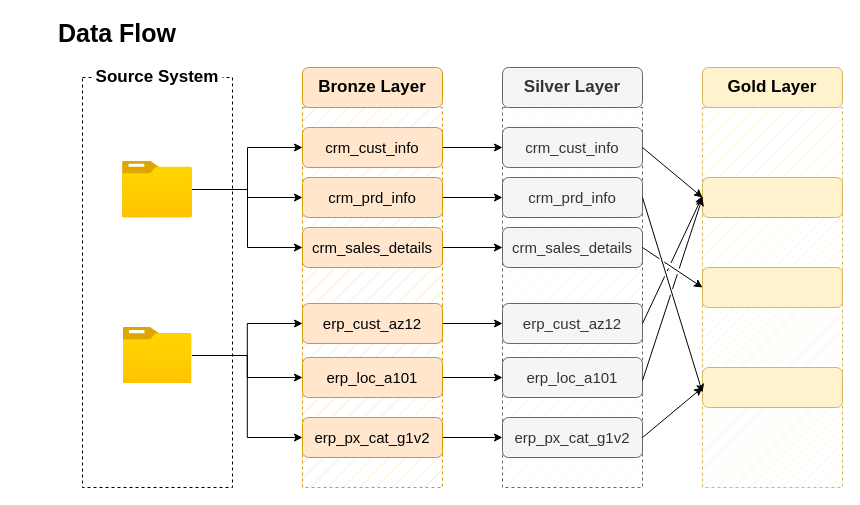
Some shapes in this 860 by 505 pixel diagram are drawn without their labels. Each missing label, with the centre of its shape:
CRM: point 157,189
dim_customer: point 772,197
dim_product: point 772,387
ERP: point 157,355
fact_sales: point 772,287
